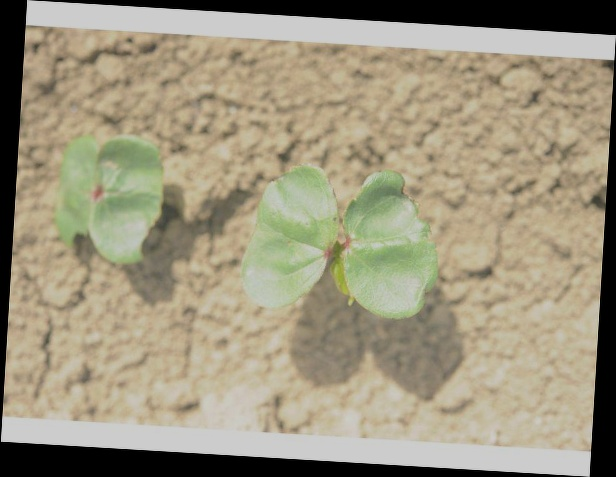cotton: (243, 163, 442, 313), (55, 131, 163, 263)
